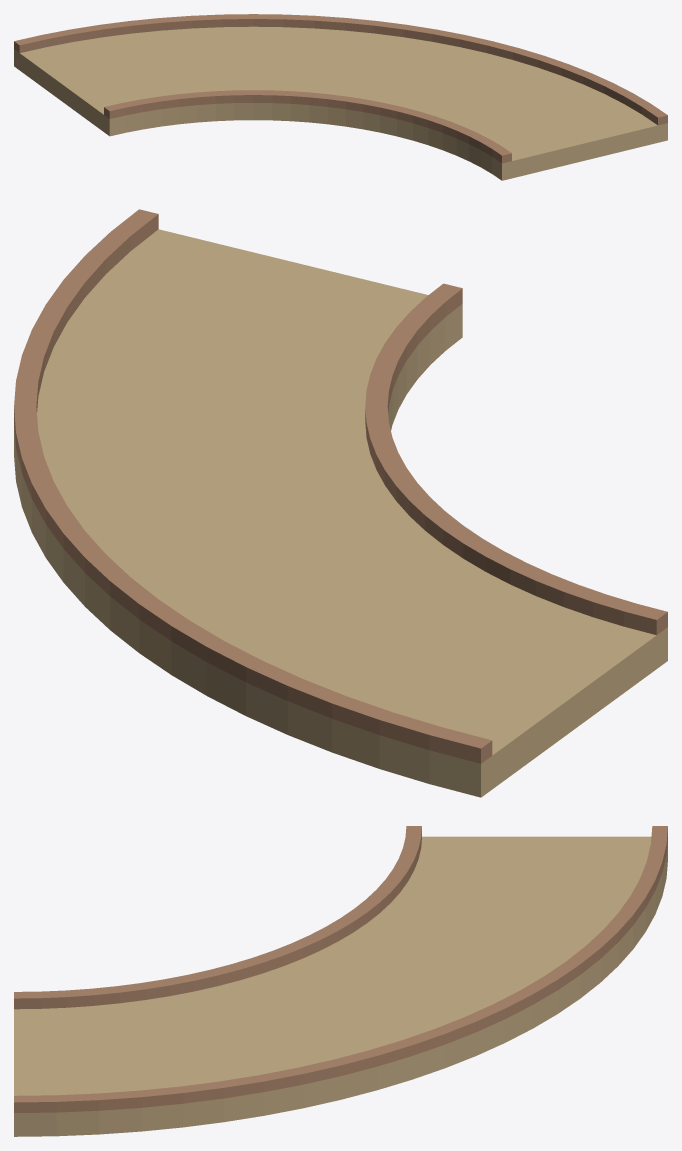
File: desert_turn_90.glb
3 views of the same model, one above another, from view 1: azimuth 30°, elevation 25°; view 2: azimuth 150°, elevation 25°; view 3: azimuth 270°, elevation 25° (orthographic). The views are drawn at different scales.
Visible parts, largest first — view 1: desert_turn_90; view 2: desert_turn_90; view 3: desert_turn_90.
Part boxes in pixels (x1,y1,x2,y2): desert_turn_90: (14, 14, 667, 180); desert_turn_90: (14, 209, 667, 797); desert_turn_90: (14, 826, 667, 1136).
Bounding box in the file's own units: 5 × 0.29 × 5.
